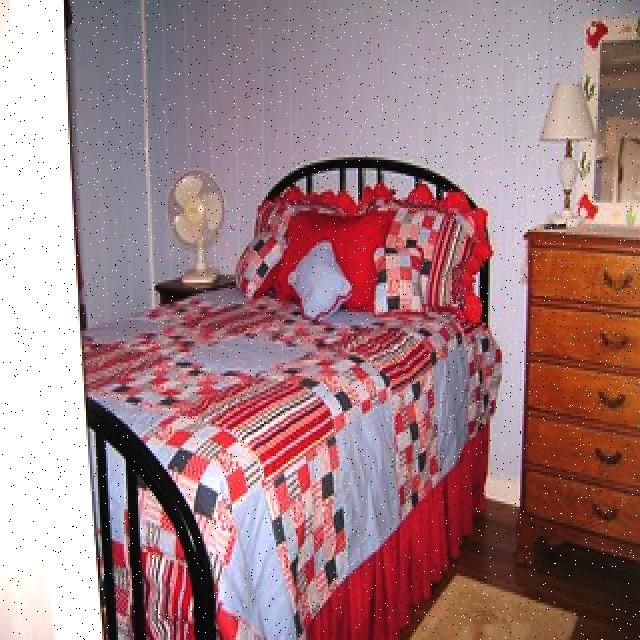bed: (84, 152, 496, 629)
